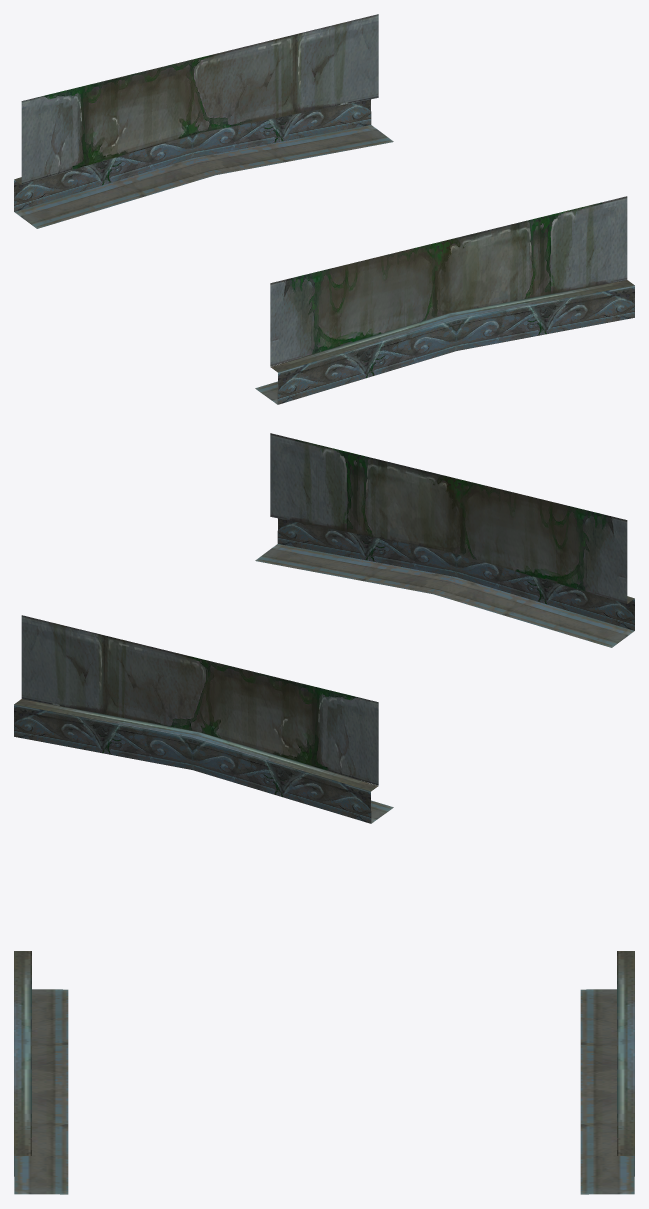
File: stemple_bridgesmall_straight_01.fbx
The picture shows the model from 3 angles, top to bottom: view 1: azimuth 30°, elevation 25°; view 2: azimuth 150°, elevation 25°; view 3: azimuth 270°, elevation 25°; orthographic projection. The views are drawn at different scales.
Parts seen in each view (by area): view 1: obj1.054; view 2: obj1.054; view 3: obj1.054.
Part boxes in pixels (left/top/right/bottom): obj1.054: left=14, top=14, right=634, bottom=404; obj1.054: left=14, top=433, right=634, bottom=823; obj1.054: left=14, top=951, right=634, bottom=1194.
Bounding box in the file's own units: 4 × 1.25 × 5.12.
